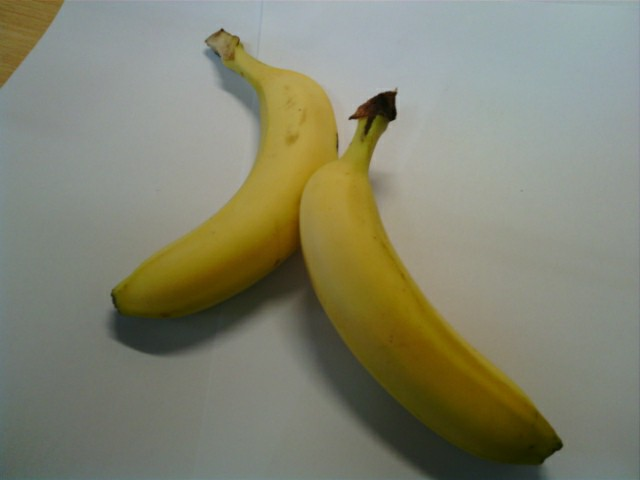fresh_banana: (295, 151, 565, 469), (105, 61, 341, 318)
